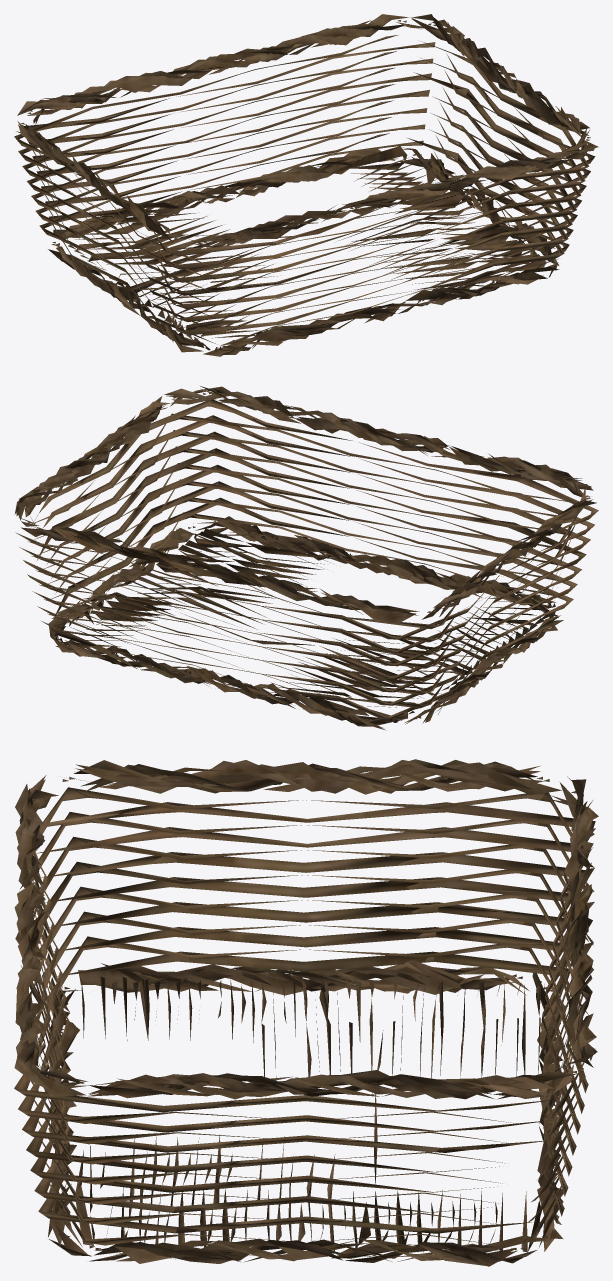
Rendered from wicker_basket_01.glb.
3 renders of one model, top to bottom at view 1: azimuth 30°, elevation 25°; view 2: azimuth 150°, elevation 25°; view 3: azimuth 270°, elevation 25°, orthographic. The views are drawn at different scales.
Visible parts, largest first — view 1: wicker_basket_01; view 2: wicker_basket_01; view 3: wicker_basket_01.
Part boxes in pixels (box(x1,y1,x2,y2)): wicker_basket_01: box(14, 14, 598, 356); wicker_basket_01: box(14, 386, 598, 730); wicker_basket_01: box(14, 759, 598, 1266).
Bounding box in the file's own units: 0.383 × 0.1185 × 0.2933.
Materials: 1 (1 with a texture image).
